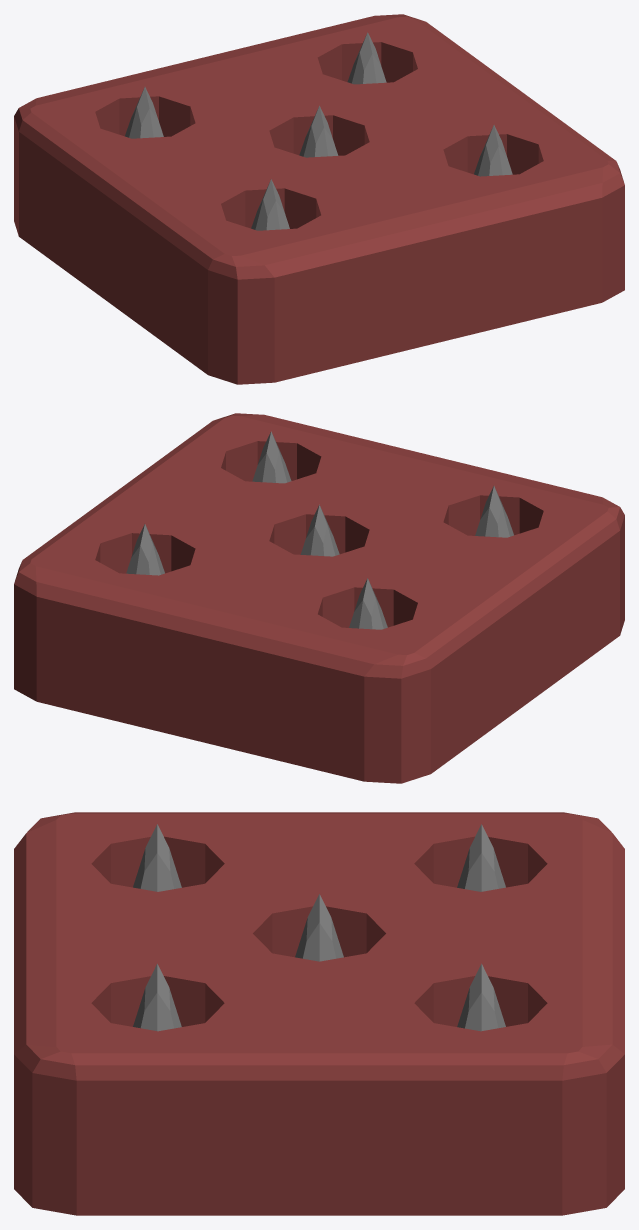
The model's file is Hazard_SpikeTrap_001.fbx.
3 renders of one model, top to bottom at view 1: azimuth 30°, elevation 25°; view 2: azimuth 150°, elevation 25°; view 3: azimuth 270°, elevation 25°, orthographic. The views are drawn at different scales.
Parts seen in each view (by area): view 1: Hazard_SpikeTrap.001; view 2: Hazard_SpikeTrap.001; view 3: Hazard_SpikeTrap.001.
Boxes of the visible parts, x1,y1,x2,y2 form: Hazard_SpikeTrap.001: [14, 14, 624, 384]; Hazard_SpikeTrap.001: [14, 413, 624, 783]; Hazard_SpikeTrap.001: [14, 812, 624, 1215].
Size of the model in its own units: 200 by 69.68 by 200.
